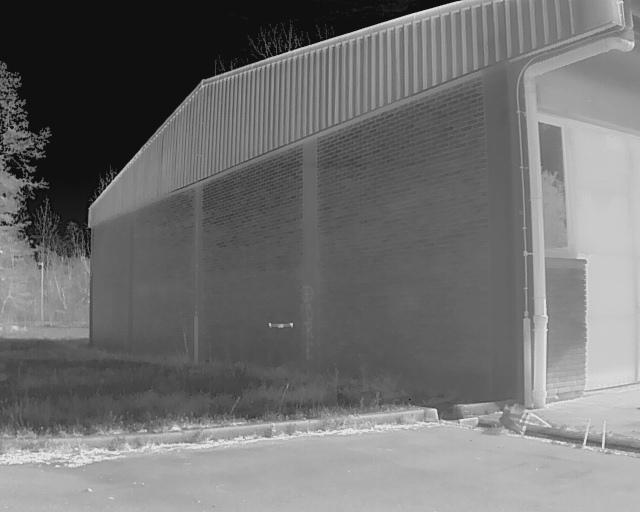drone: (263, 314, 295, 338)
